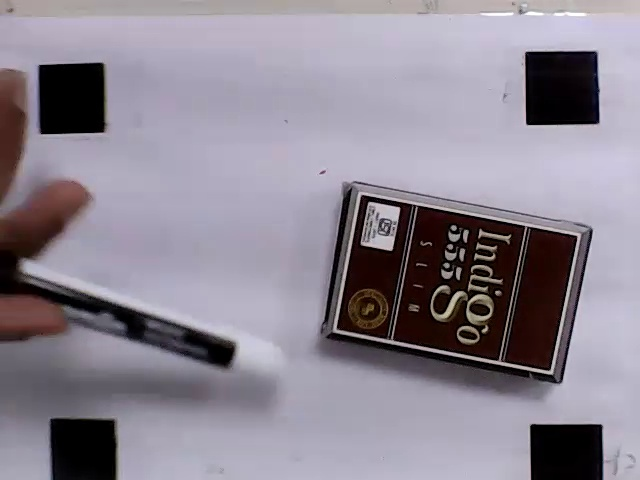BEX: (334, 194, 580, 374)
